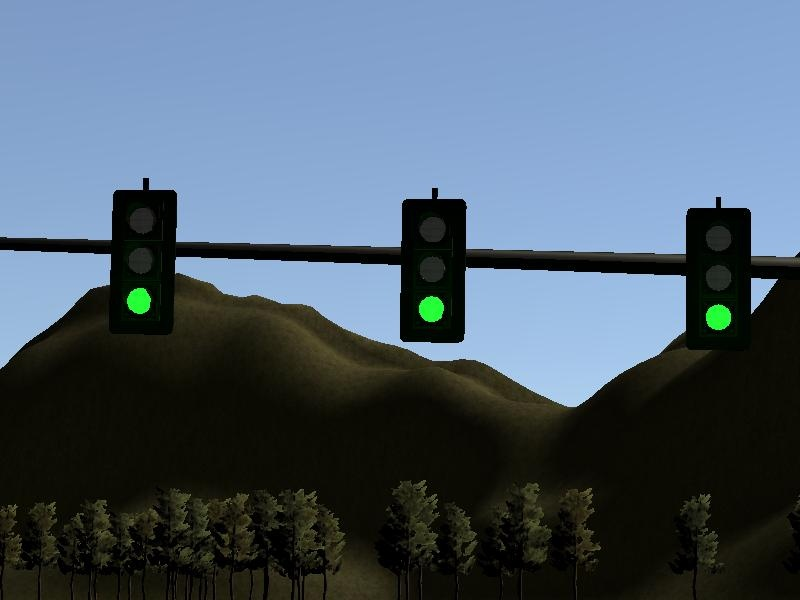GREEN: (107, 184, 180, 342), (397, 196, 472, 347), (681, 202, 755, 350)
